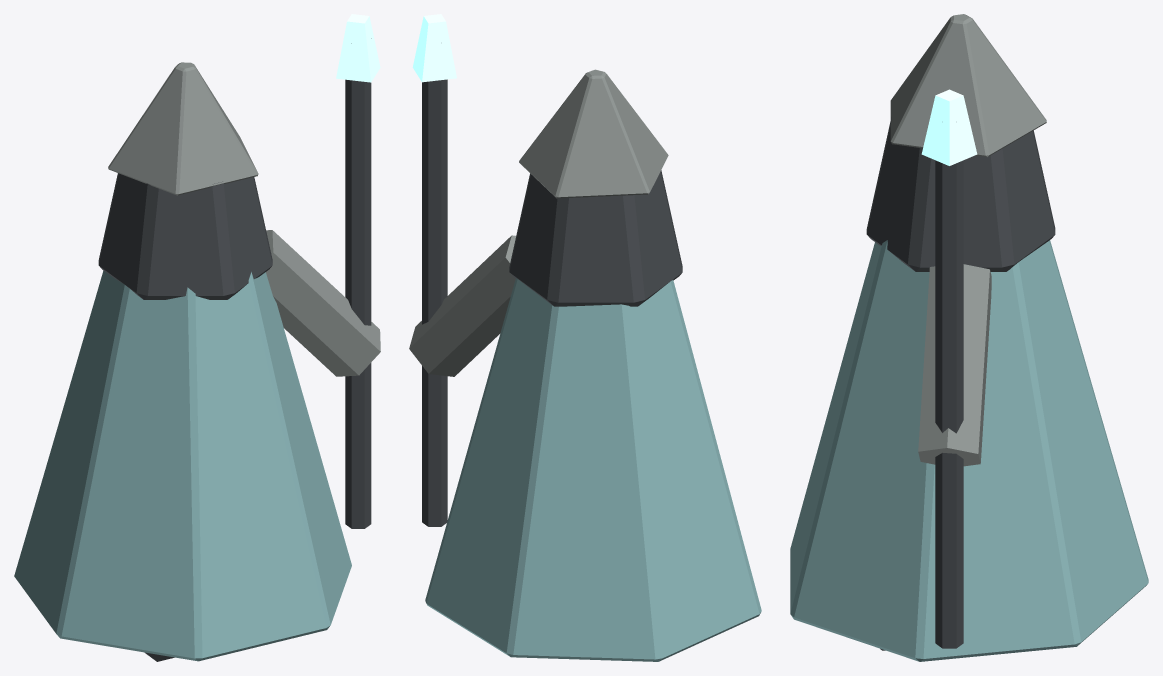
File: Staff20.fbx
3 views of the same model, side by side, from view 1: azimuth 30°, elevation 25°; view 2: azimuth 150°, elevation 25°; view 3: azimuth 270°, elevation 25° (orthographic). The views are drawn at different scales.
Visible parts, largest first — view 1: CHR_Player; view 2: CHR_Player; view 3: CHR_Player.
Boxes of the visible parts, <box> form: CHR_Player: <box>14,14,380,661</box>; CHR_Player: <box>409,14,761,661</box>; CHR_Player: <box>790,14,1148,661</box>.
Size of the model in its own units: 1.81 by 2.9 by 1.54.
